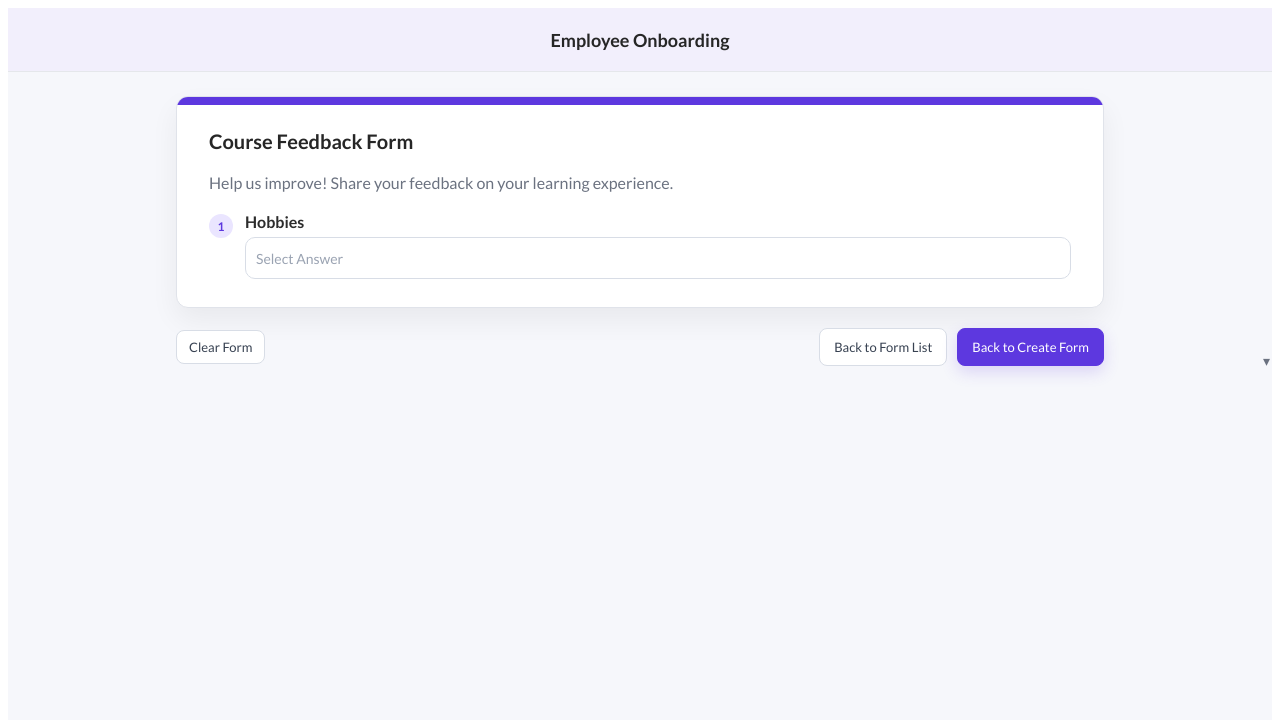
it: closes MultiSelect when clicking outside
Open the multiselect
Click the element showing "Select Answer ▾" at (300, 258), box x1=256 y1=250 x2=343 y2=266
(page scrolled)
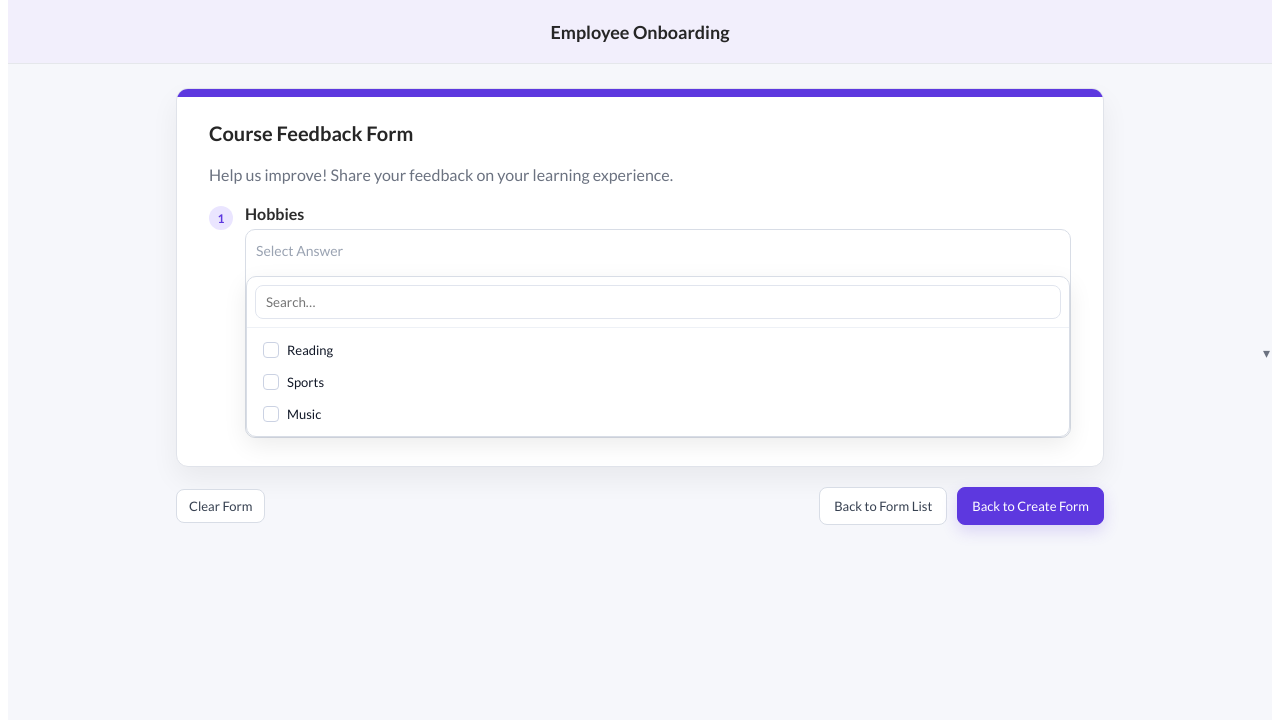
Check: the field with placeholder "Search…" is shown, box x1=255 y1=285 x2=1061 y2=319
Click outside
Press the mouse on the element that starts with "Employee Onboarding" at (640, 360), box x1=8 y1=0 x2=1272 y2=719
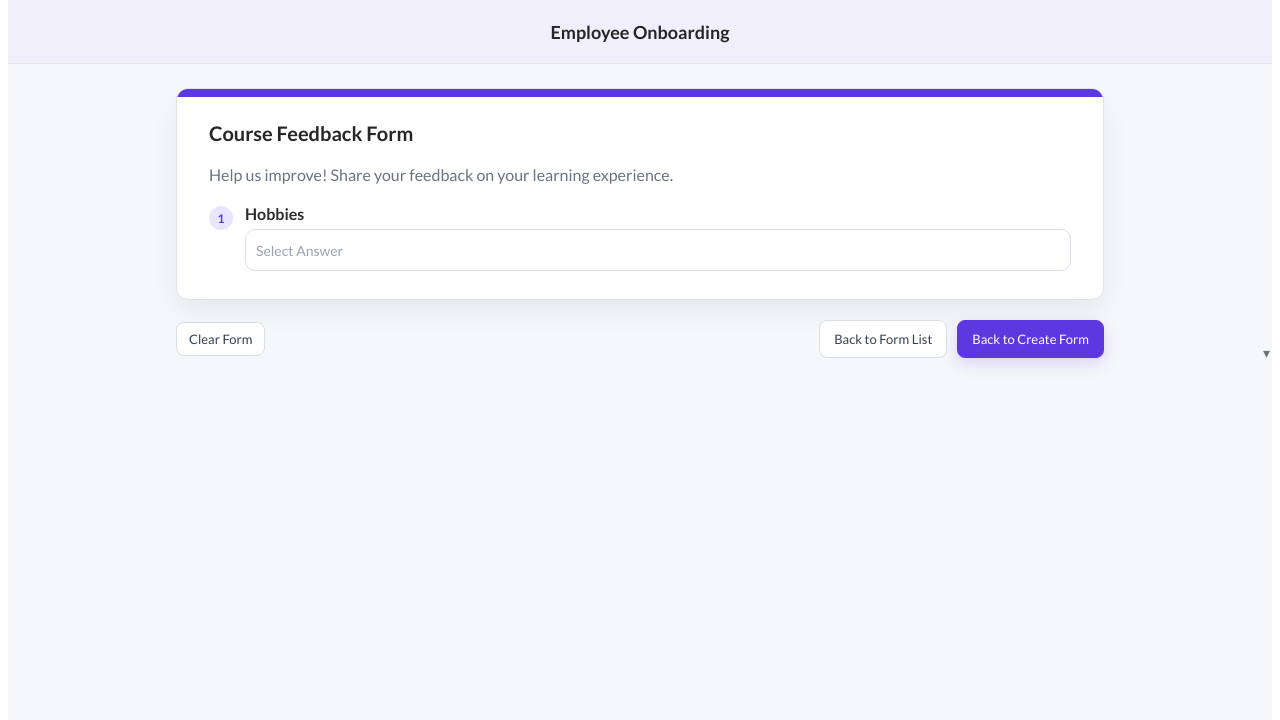
Check: the field with placeholder "Search…" is gone
Open again and test touchstart event
Click the element showing "Select Answer ▾" at (300, 250), box x1=256 y1=242 x2=343 y2=258
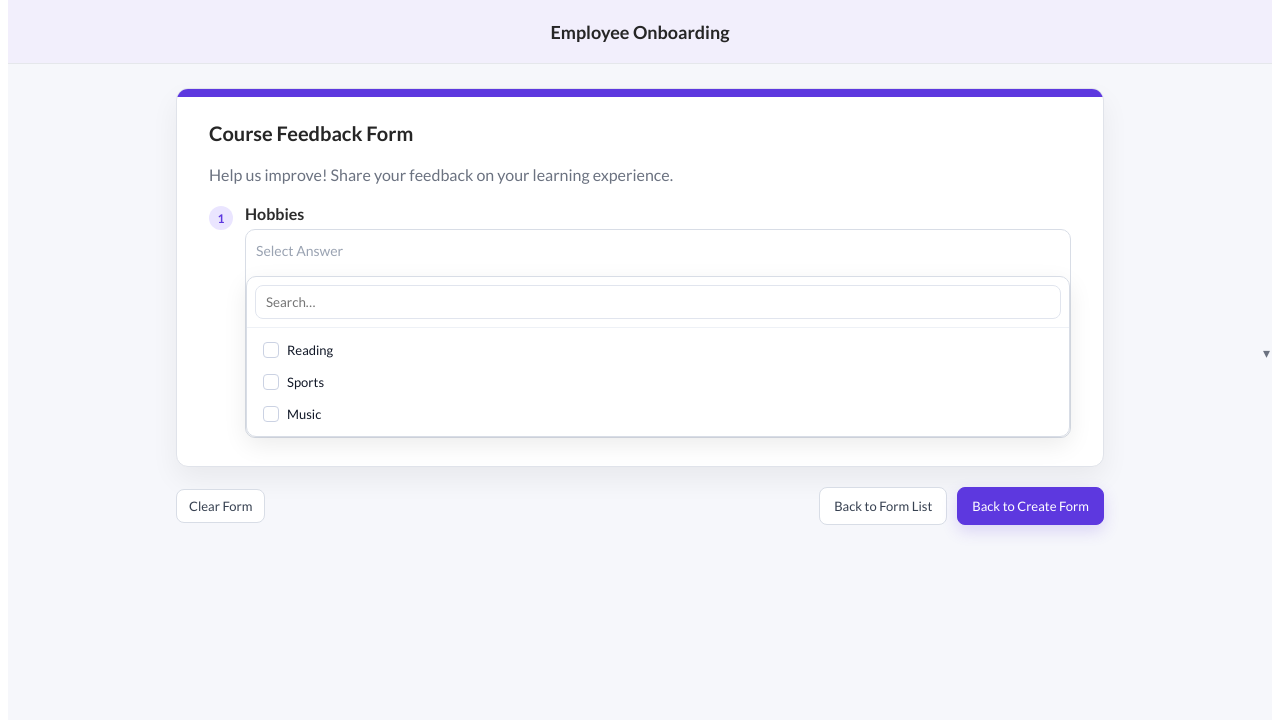
Check: the field with placeholder "Search…" is shown, box x1=255 y1=285 x2=1061 y2=319
Simulate touchstart outside
Press the mouse on the element that starts with "Employee Onboarding" at (640, 360), box x1=8 y1=0 x2=1272 y2=719
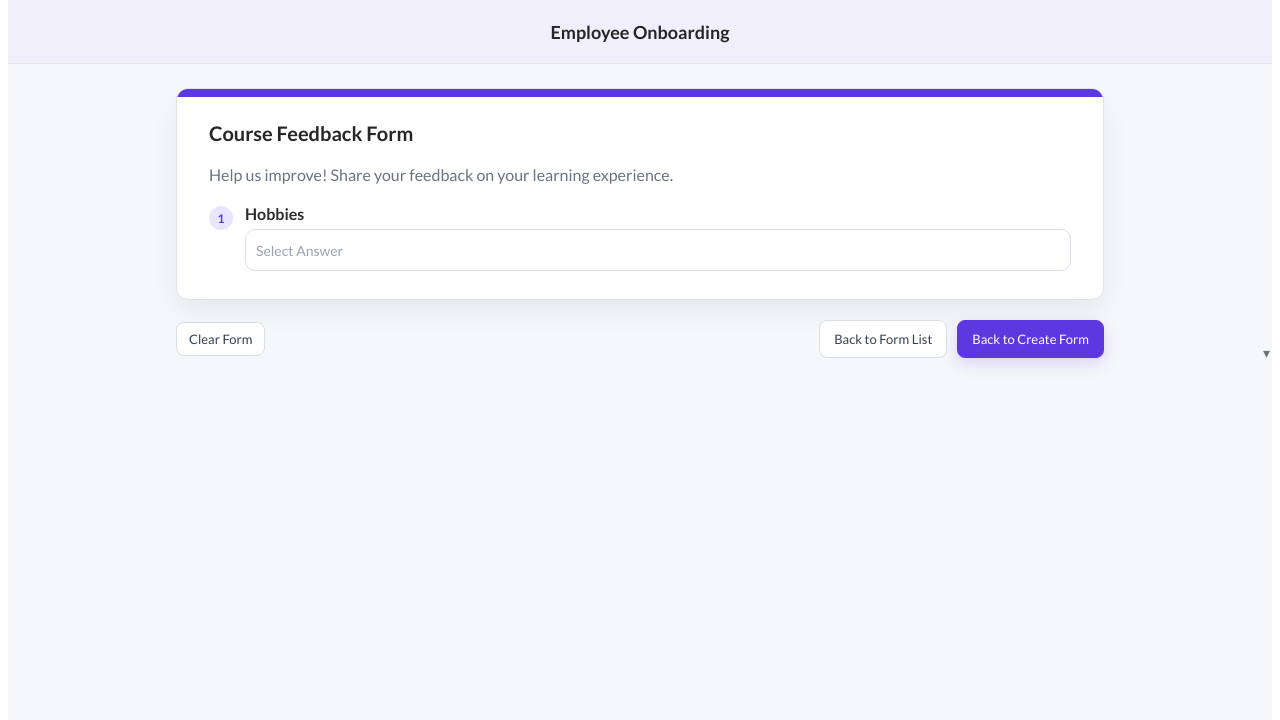
Check: the field with placeholder "Search…" is gone
